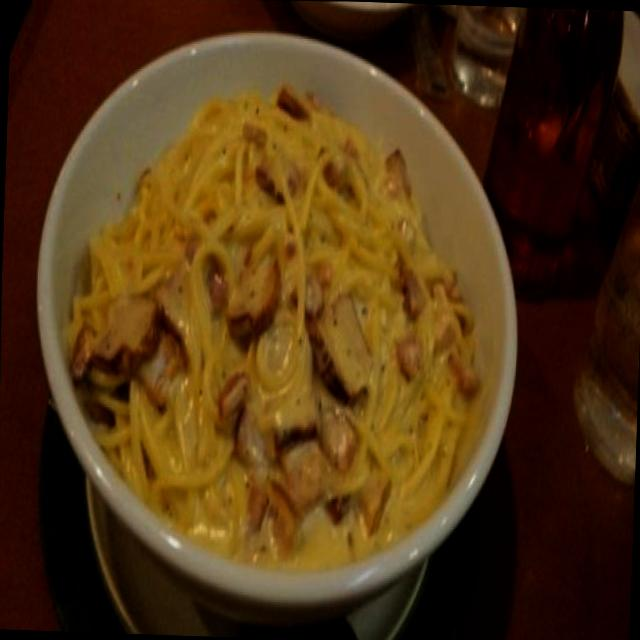Pasta: (90, 93, 478, 530)
